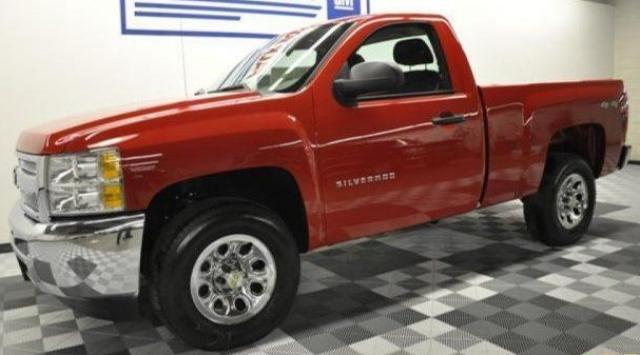pickup-truck: (5, 13, 632, 349)
